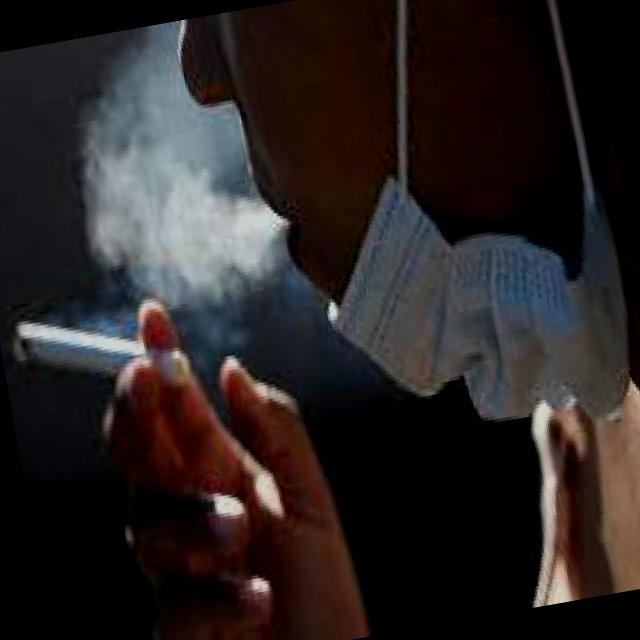cigarette: (8, 286, 195, 416)
